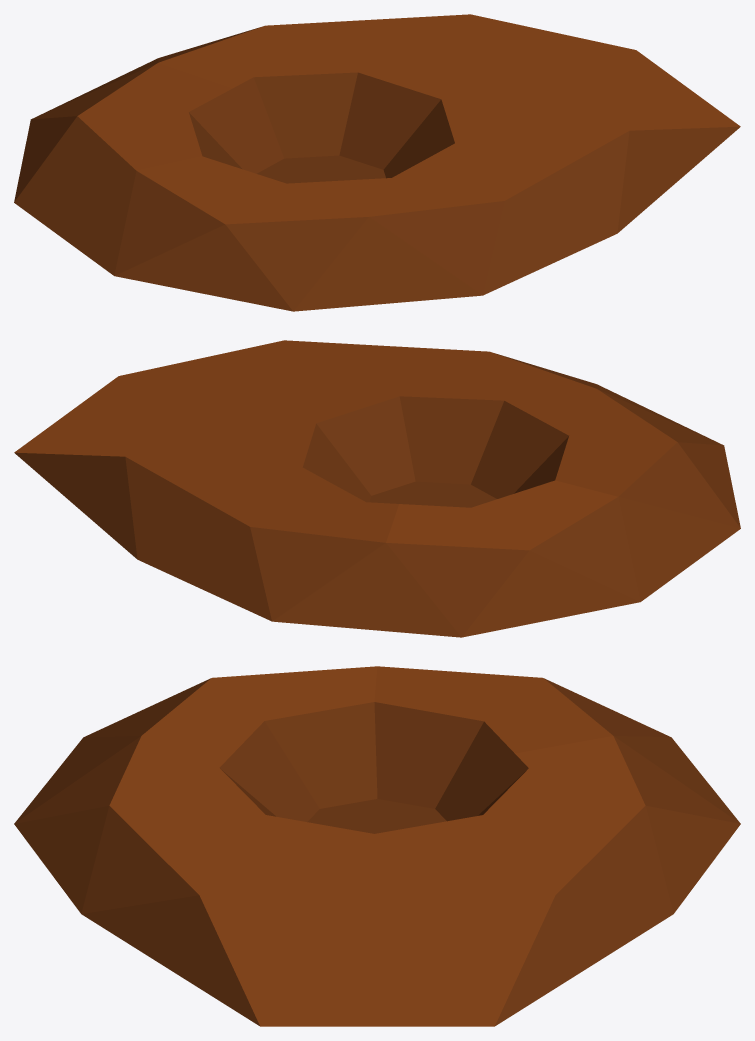
The model's file is UnderConstruction (1).fbx.
3 views of the same model, one above another, from view 1: azimuth 30°, elevation 25°; view 2: azimuth 150°, elevation 25°; view 3: azimuth 270°, elevation 25° (orthographic). The views are drawn at different scales.
Visible parts, largest first — view 1: Floor; view 2: Floor; view 3: Floor.
Boxes of the visible parts, x1,y1,x2,y2 form: Floor: (14,14,740,311); Floor: (14,340,740,637); Floor: (14,666,740,1026).
Bounding box in the file's own units: 20 × 1.81 × 18.
1 material, 1 textured.
